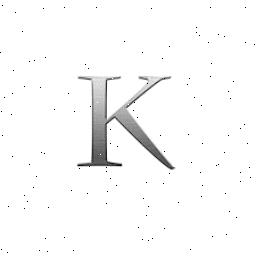k: (79, 58, 181, 178)
